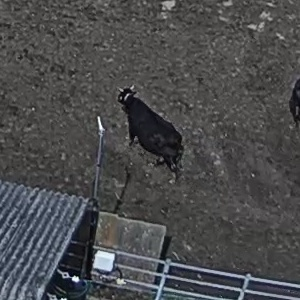cow: (119, 75, 197, 183)
